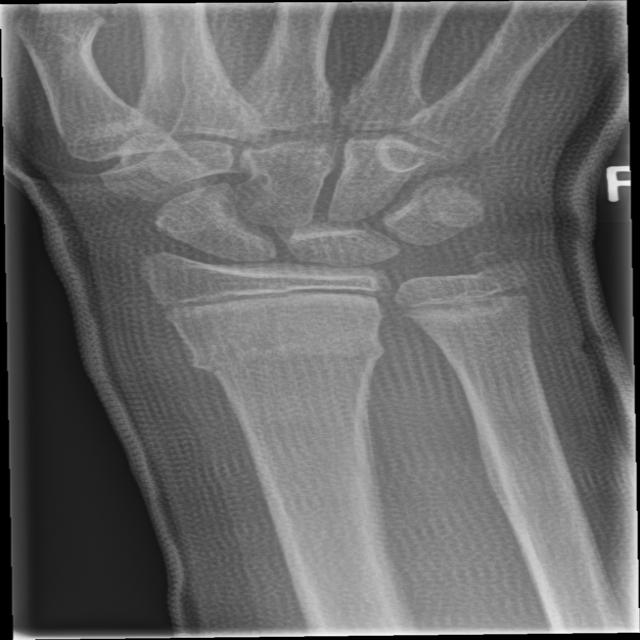radius fracture: (148, 301, 395, 513)
